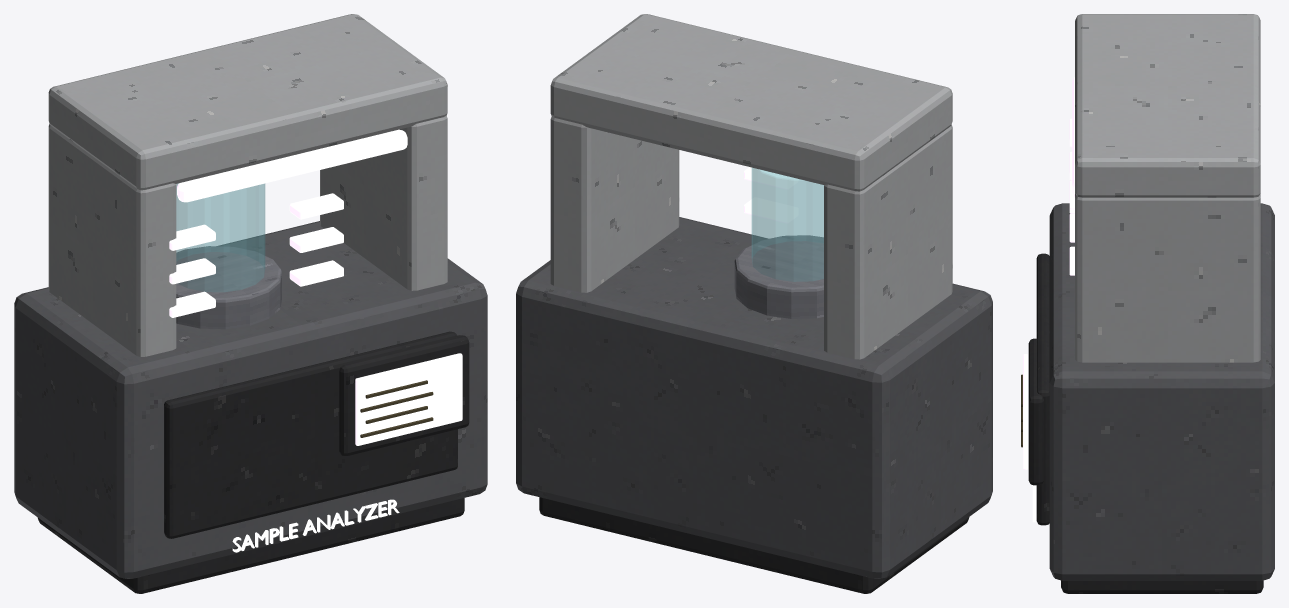
Rendered from machine_sample_analyzer.glb.
3 views of the same model, side by side, from view 1: azimuth 30°, elevation 25°; view 2: azimuth 150°, elevation 25°; view 3: azimuth 270°, elevation 25° (orthographic).
Parts seen in each view (by area): view 1: MCH_Analyzer__Lower_Cabinet, MCH_Analyzer__Scanner_Crown, MCH_Analyzer__Front_Panel, MCH_Analyzer__Scanner_Post_Left, MCH_Analyzer__Scanner_Post_Right, MCH_Analyzer__Sample_Chamber, MCH_Analyzer__Spectrum_Screen_Glow, MCH_Analyzer__Sample_Pedestal, MCH_Analyzer__Plinth, MCH_Analyzer__Spectrum_Screen_Bezel, MCH_Analyzer__Scanner_Inner_Glow, MCH_Analyzer__Title_Text (+6 smaller); view 2: MCH_Analyzer__Lower_Cabinet, MCH_Analyzer__Scanner_Crown, MCH_Analyzer__Scanner_Post_Left, MCH_Analyzer__Scanner_Post_Right, MCH_Analyzer__Sample_Chamber, MCH_Analyzer__Sample_Pedestal, MCH_Analyzer__Plinth, MCH_Analyzer__Sensor_Right_1, MCH_Analyzer__Sensor_Right_2; view 3: MCH_Analyzer__Lower_Cabinet, MCH_Analyzer__Scanner_Crown, MCH_Analyzer__Scanner_Post_Right, MCH_Analyzer__Front_Panel, MCH_Analyzer__Plinth, MCH_Analyzer__Spectrum_Screen_Bezel, MCH_Analyzer__Spectrum_Screen_Glow, MCH_Analyzer__Scanner_Inner_Glow.
Part boxes in pixels (x1,y1,x2,y2): MCH_Analyzer__Lower_Cabinet: (14,221,487,578); MCH_Analyzer__Scanner_Crown: (48,14,447,190); MCH_Analyzer__Front_Panel: (164,331,457,538); MCH_Analyzer__Scanner_Post_Left: (48,124,176,356); MCH_Analyzer__Scanner_Post_Right: (320,116,447,290); MCH_Analyzer__Sample_Chamber: (176,183,265,291); MCH_Analyzer__Spectrum_Screen_Glow: (355,353,462,445); MCH_Analyzer__Sample_Pedestal: (176,246,281,329); MCH_Analyzer__Plinth: (38,498,464,593); MCH_Analyzer__Spectrum_Screen_Bezel: (339,335,469,455); MCH_Analyzer__Scanner_Inner_Glow: (177,129,407,202); MCH_Analyzer__Title_Text: (232,499,399,552); MCH_Analyzer__Lower_Cabinet: (516,217,992,578); MCH_Analyzer__Scanner_Crown: (550,14,952,191); MCH_Analyzer__Scanner_Post_Left: (824,125,952,359); MCH_Analyzer__Scanner_Post_Right: (550,116,679,292); MCH_Analyzer__Sample_Chamber: (751,167,823,281); MCH_Analyzer__Sample_Pedestal: (734,235,823,318); MCH_Analyzer__Plinth: (539,497,969,593); MCH_Analyzer__Sensor_Right_1: (744,197,798,223); MCH_Analyzer__Sensor_Right_2: (744,167,798,189); MCH_Analyzer__Lower_Cabinet: (1049,203,1274,580); MCH_Analyzer__Scanner_Crown: (1075,14,1260,197); MCH_Analyzer__Scanner_Post_Right: (1075,193,1260,362); MCH_Analyzer__Front_Panel: (1036,253,1049,525); MCH_Analyzer__Plinth: (1061,580,1263,593); MCH_Analyzer__Spectrum_Screen_Bezel: (1028,338,1043,485); MCH_Analyzer__Spectrum_Screen_Glow: (1023,354,1027,469); MCH_Analyzer__Scanner_Inner_Glow: (1072,77,1074,196).
Bounding box in the file's own units: 1.5 × 1.69 × 0.902.
Materials: 8 (4 with a texture image).
